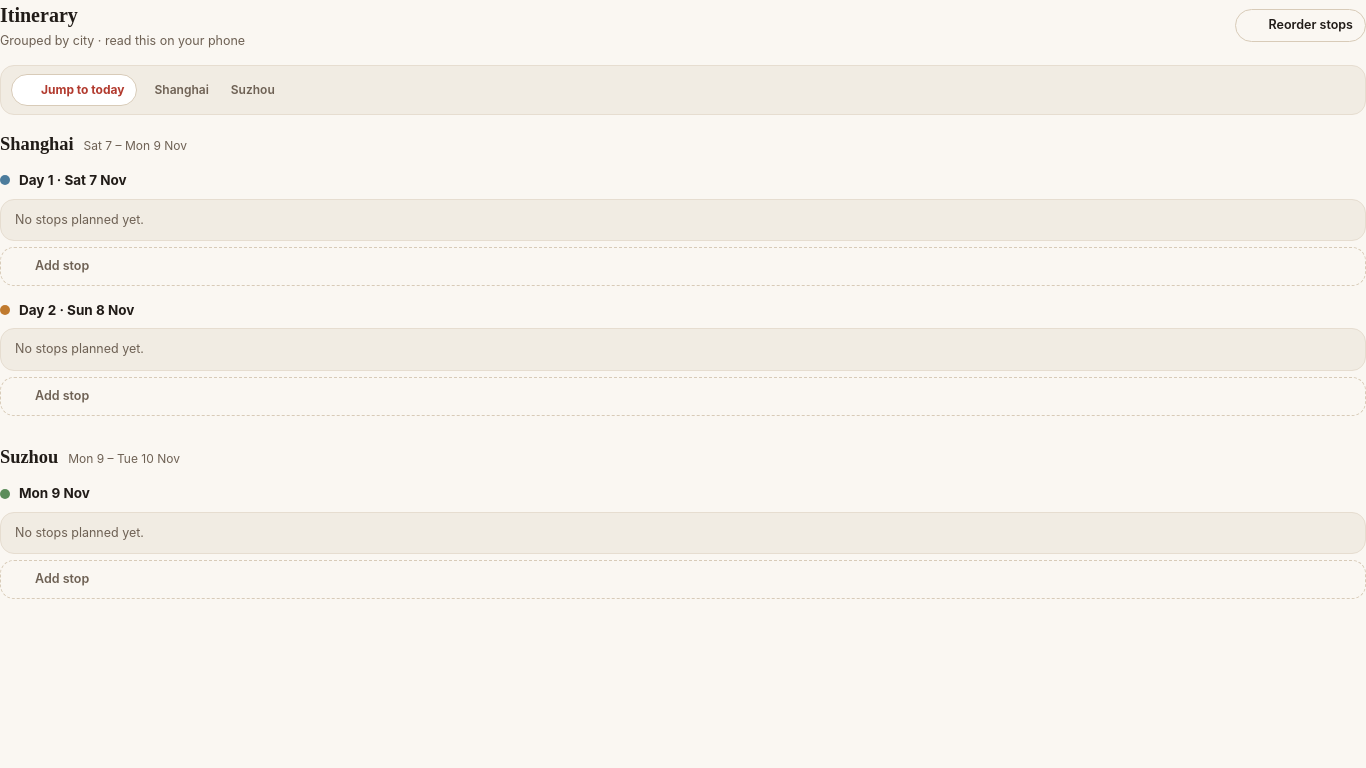
ItineraryPanel — Add stop place picker › falls back to free text, with a pointer at the Places tab, when nothing is left to pick
This screenshot has width=1366, height=768.
Step 1. Click the button "Add stop" below "Day 1 · Sat 7 Nov" → (62, 266), box [0, 247, 1365, 286]
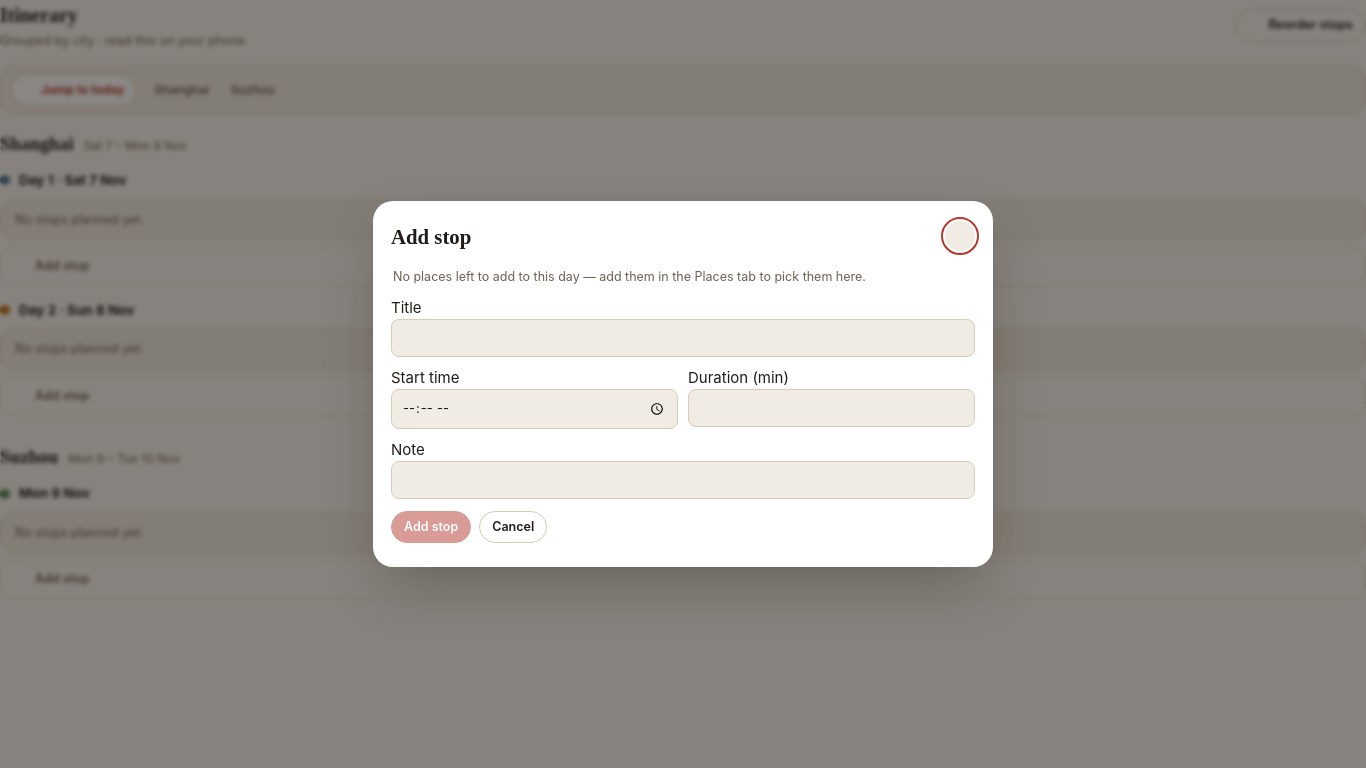
Check: the field labelled "Title" is shown, box [391, 319, 975, 357]
Check: the text "add them in the Places tab" is shown, box [393, 269, 866, 284]
